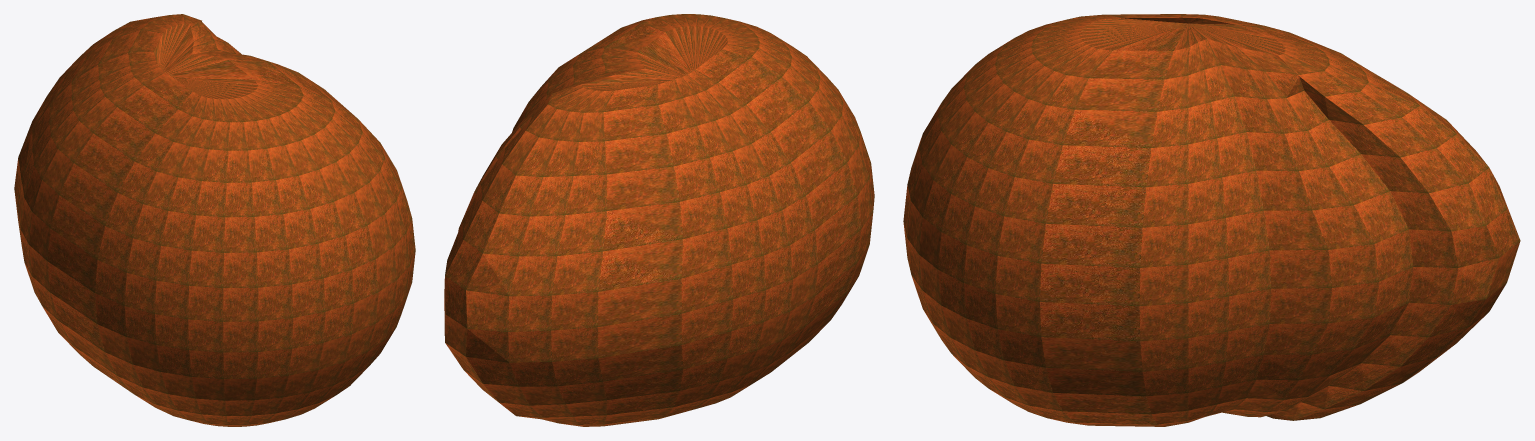
File: cactusseed1.dae
The picture shows the model from 3 angles, left to right: view 1: azimuth 30°, elevation 25°; view 2: azimuth 150°, elevation 25°; view 3: azimuth 270°, elevation 25°; orthographic projection. The views are drawn at different scales.
Parts seen in each view (by area): view 1: Sphere; view 2: Sphere; view 3: Sphere.
Boxes of the visible parts, x1,y1,x2,y2 form: Sphere: [14, 14, 415, 426]; Sphere: [444, 14, 874, 426]; Sphere: [903, 14, 1520, 426].
Size of the model in its own units: 1.95 by 2.96 by 1.93.
